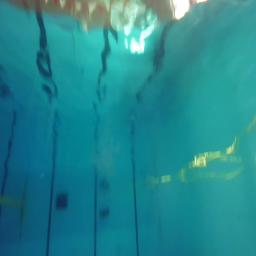Full: (56, 194, 70, 210), (99, 206, 111, 217)
